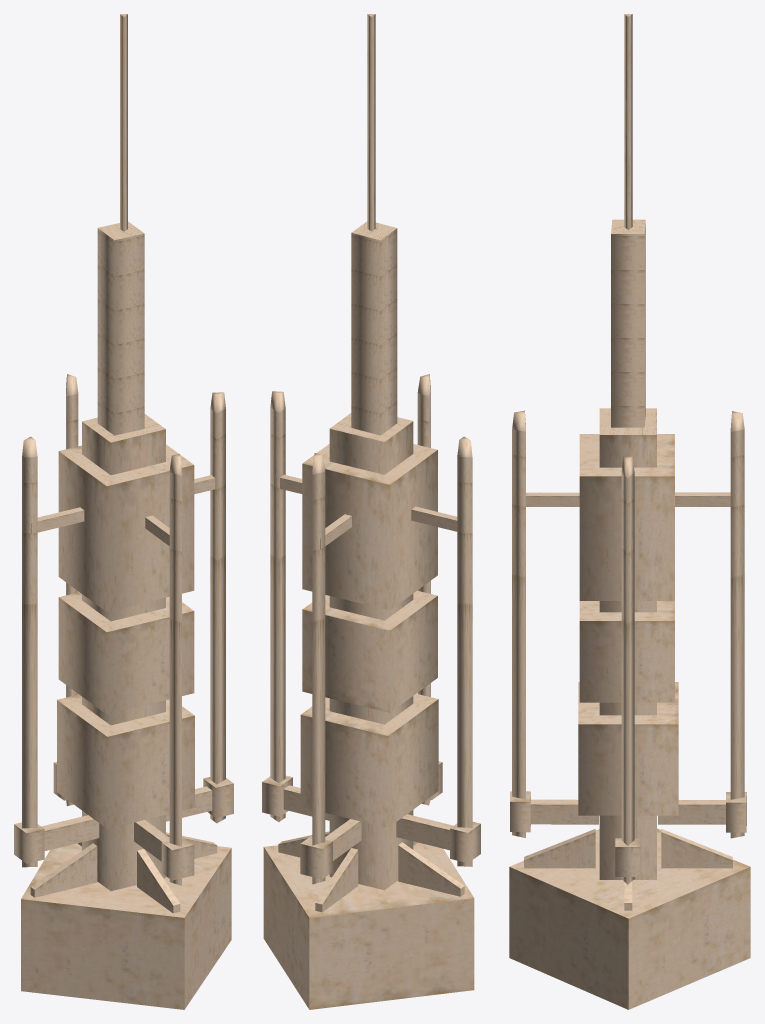
Rendered from ins_all_min_moisture_s01_u0_l2.fbx.
The picture shows the model from 3 angles, left to right: view 1: azimuth 30°, elevation 25°; view 2: azimuth 150°, elevation 25°; view 3: azimuth 270°, elevation 25°; orthographic projection.
Visible parts, largest first — view 1: mesh_node; view 2: mesh_node; view 3: mesh_node.
Part boxes in pixels (x1,y1,x2,y2): mesh_node: (14, 14, 233, 1009); mesh_node: (262, 14, 480, 1009); mesh_node: (509, 14, 750, 1009).
Bounding box in the file's own units: 1.76 × 7.58 × 1.76.
